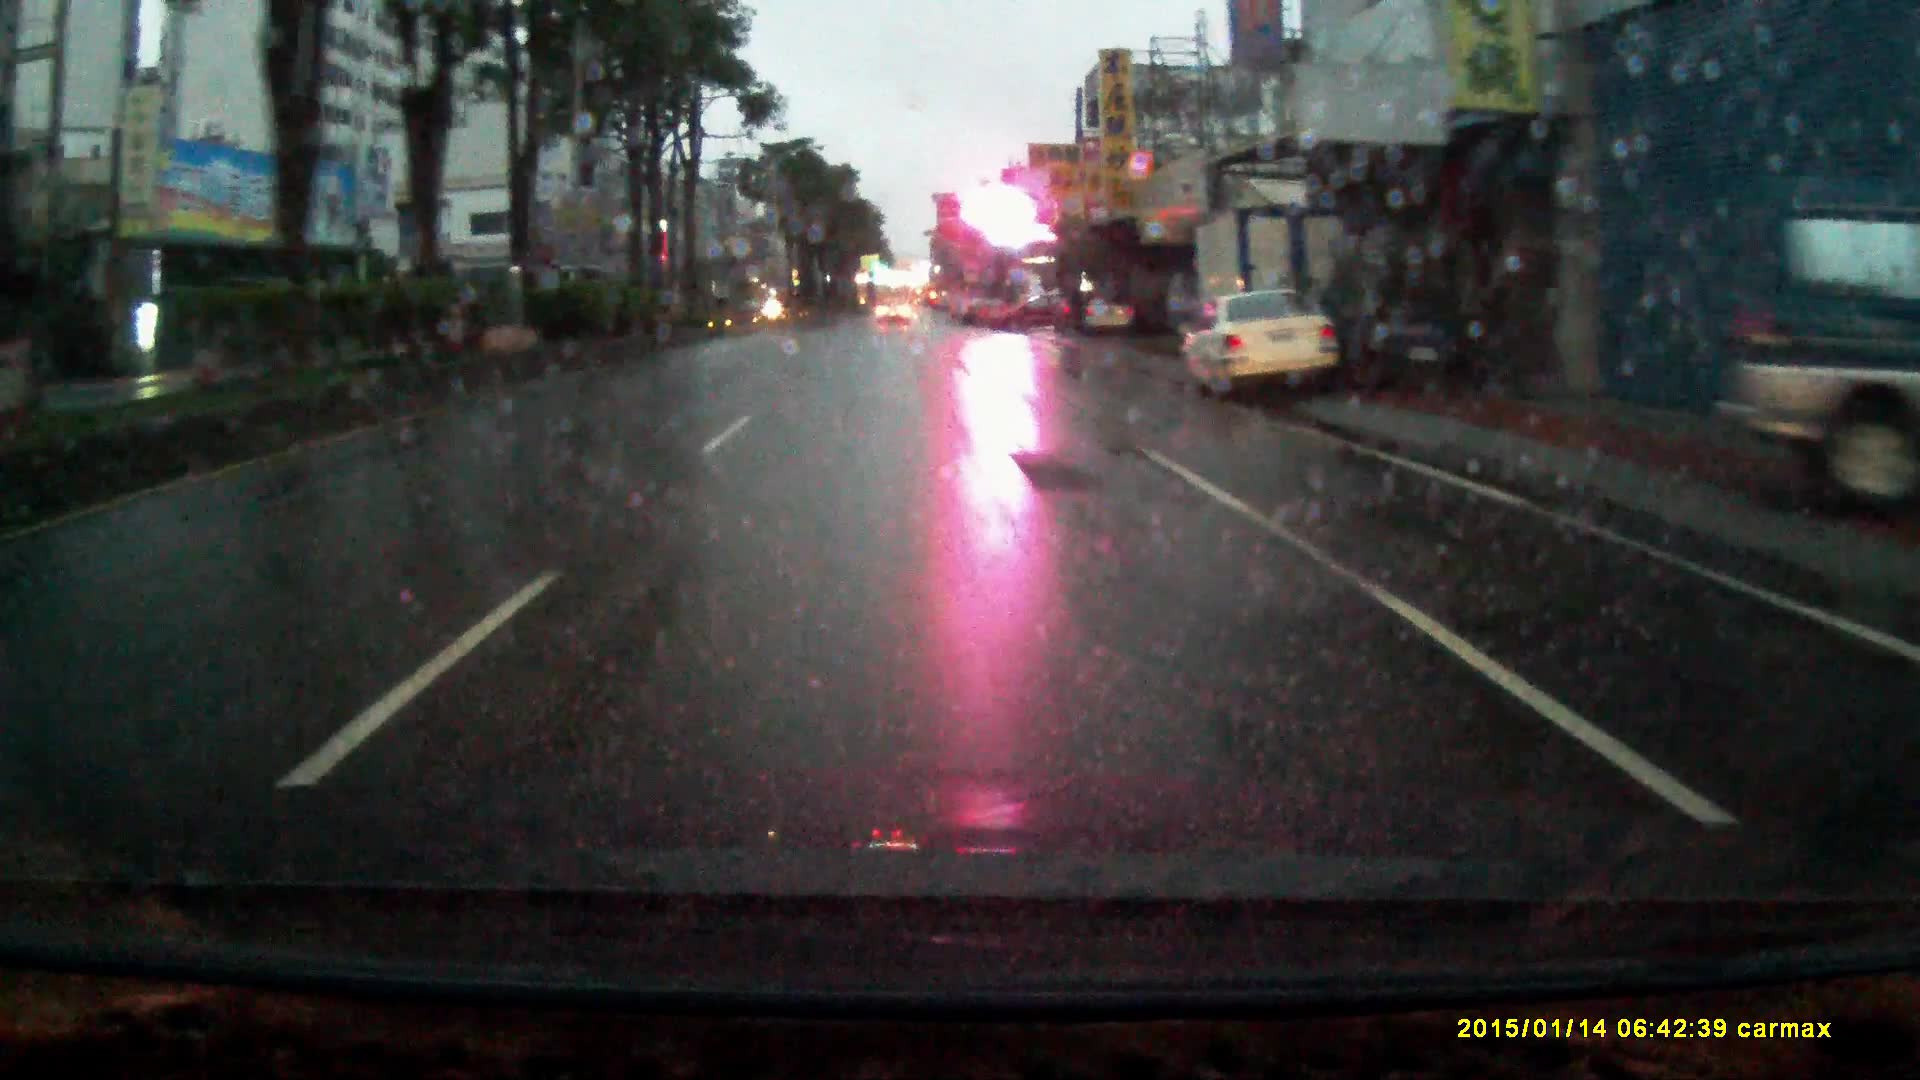vehicle: (1178, 200, 1375, 392), (1356, 218, 1528, 386), (1174, 282, 1348, 401), (988, 287, 1072, 332), (1075, 287, 1135, 336), (877, 298, 913, 328)
